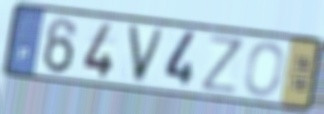4: (161, 28, 199, 93), (81, 20, 115, 80)
6: (42, 16, 80, 75)
O: (242, 40, 287, 99)
V: (125, 22, 168, 87)
Z: (200, 33, 245, 98)
